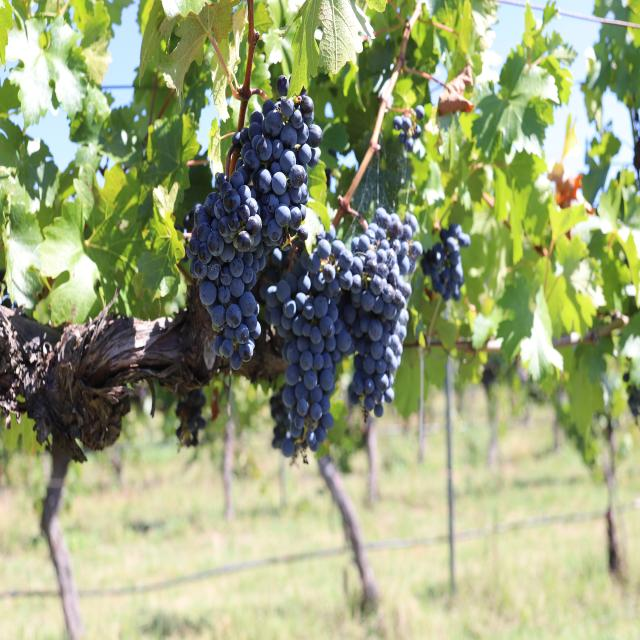grapes: (187, 95, 435, 457), (185, 76, 322, 370), (261, 207, 422, 456), (421, 223, 471, 301), (441, 224, 470, 291), (393, 104, 424, 152)
stem: (332, 2, 422, 229), (232, 0, 266, 131), (225, 154, 236, 174)
